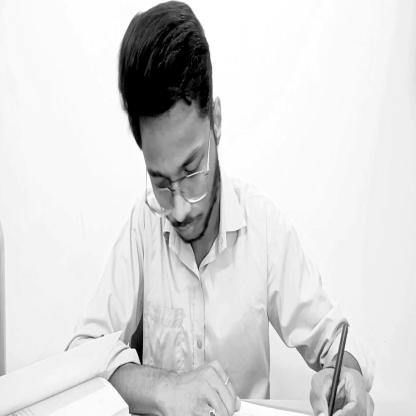Distracted: (118, 7, 221, 247)
